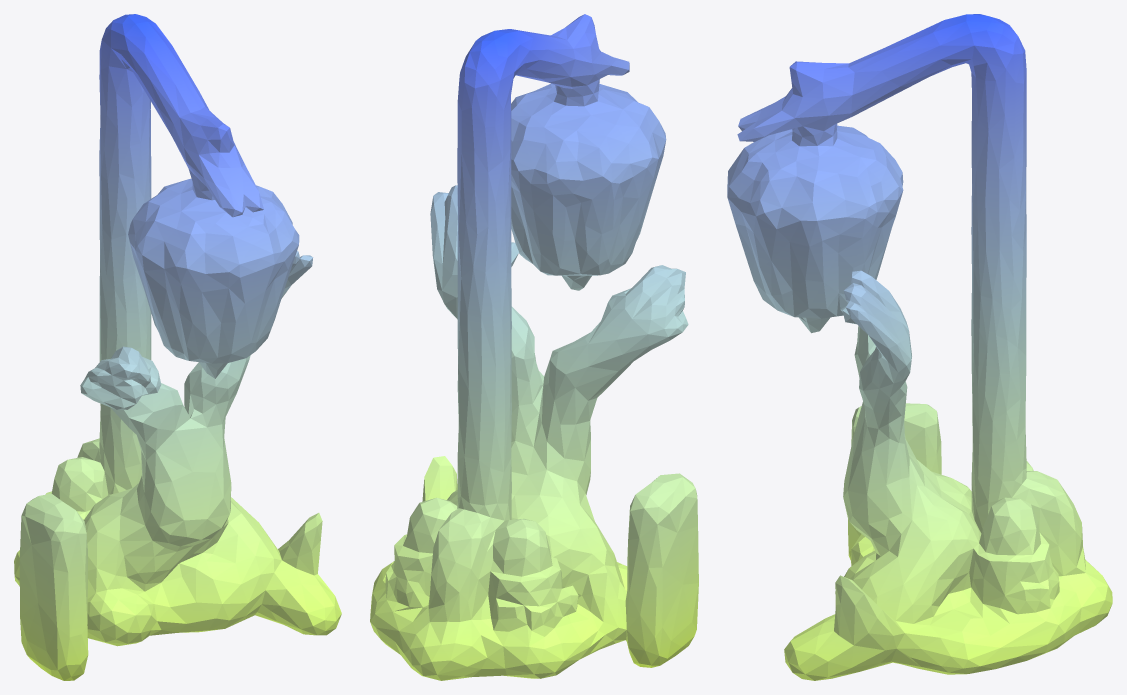
File: 157_cyb_laser_gradient_fish_scales_2983_2026_10_03_183ff7.glb
3 views of the same model, side by side, from view 1: azimuth 30°, elevation 25°; view 2: azimuth 150°, elevation 25°; view 3: azimuth 270°, elevation 25° (orthographic). The views are drawn at different scales.
Parts seen in each view (by area): view 1: geometry_0; view 2: geometry_0; view 3: geometry_0.
Part boxes in pixels (bbox=[...]): geometry_0: bbox=[14, 14, 341, 680]; geometry_0: bbox=[370, 14, 698, 680]; geometry_0: bbox=[727, 14, 1112, 680].
Bounding box in the file's own units: 0.4143 × 0.8952 × 0.5023.
